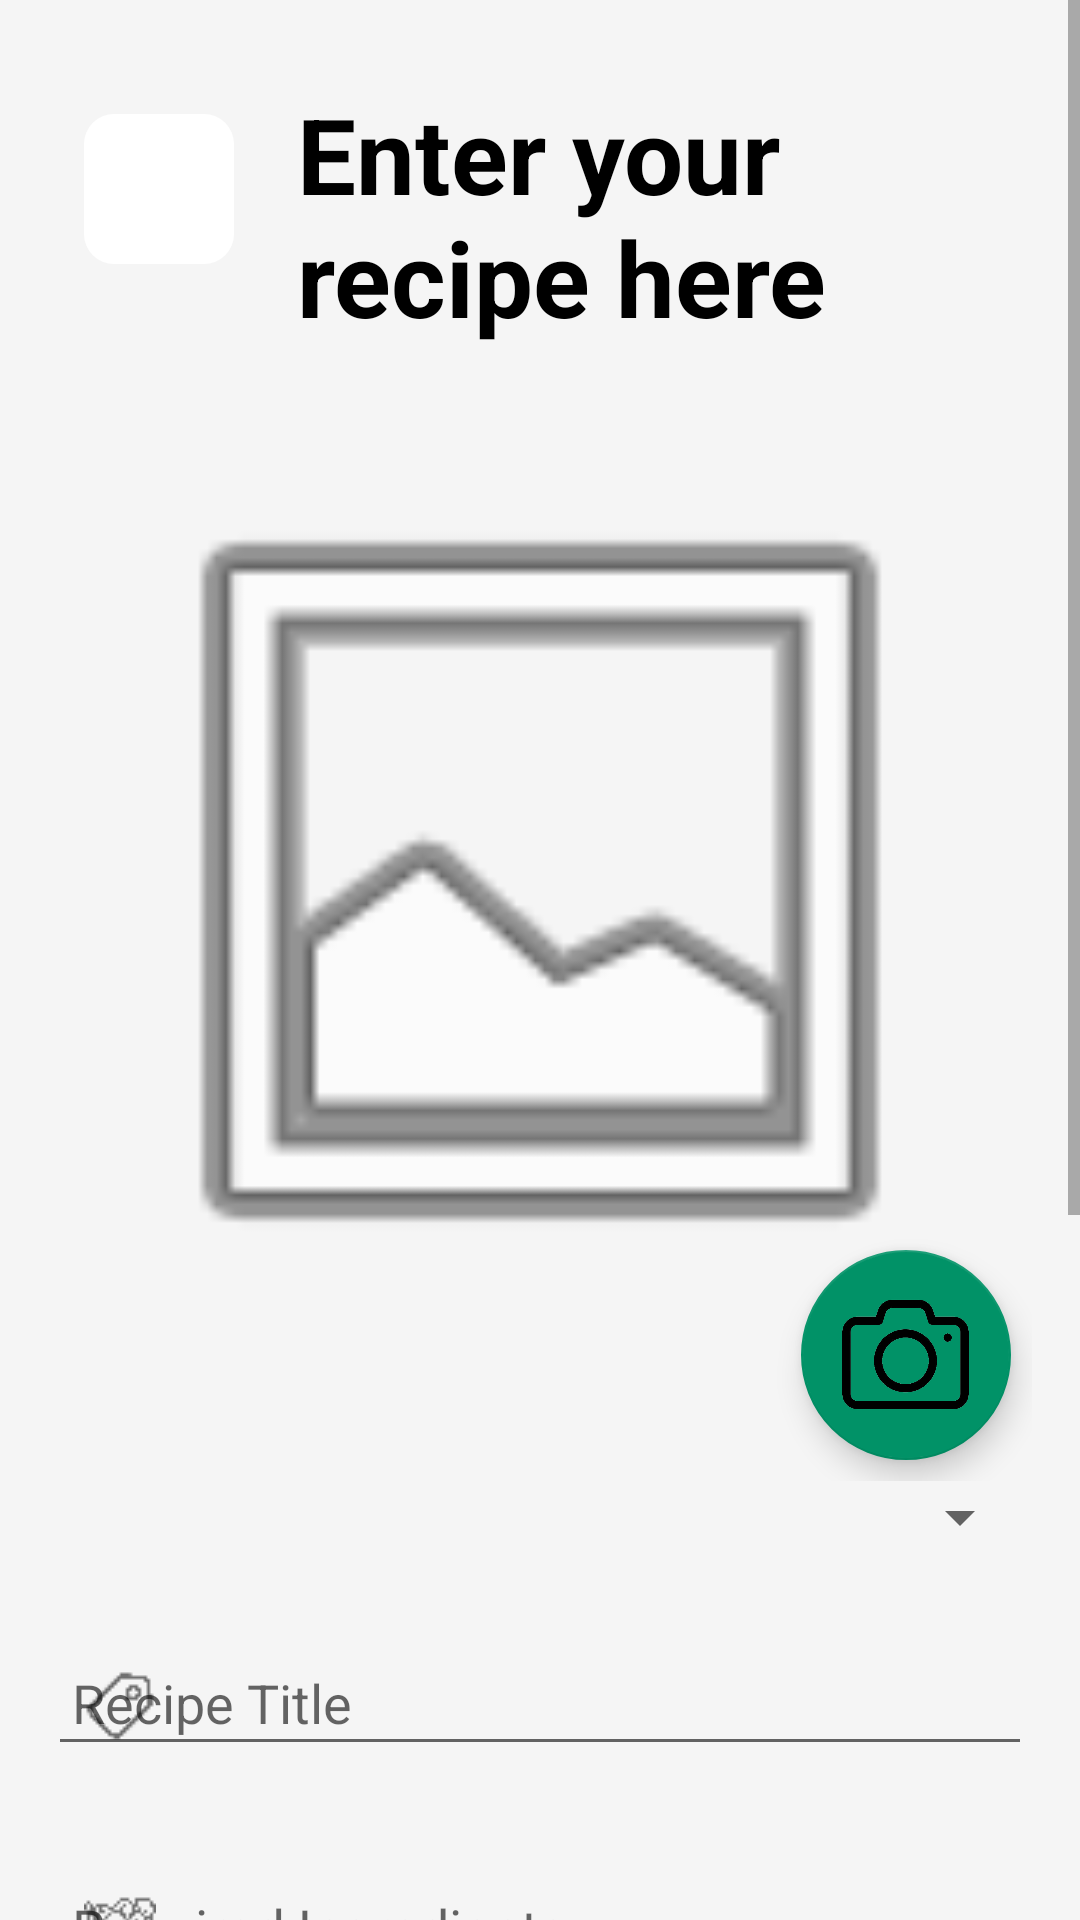

Named icons in this screenshot (1080px×1920px) and their centers, (x=x, y=y):
camera: (x=906, y=1355)
